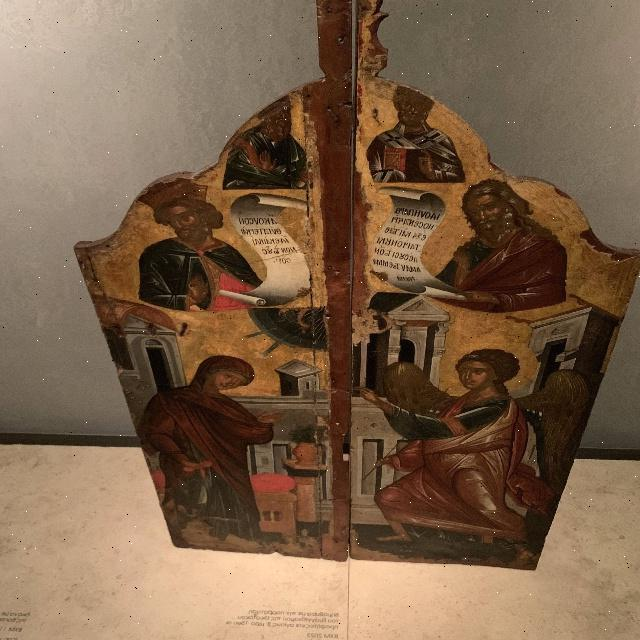angel: (357, 340, 598, 553)
mary: (167, 352, 287, 543)
wing: (523, 364, 597, 495), (384, 360, 452, 414)
